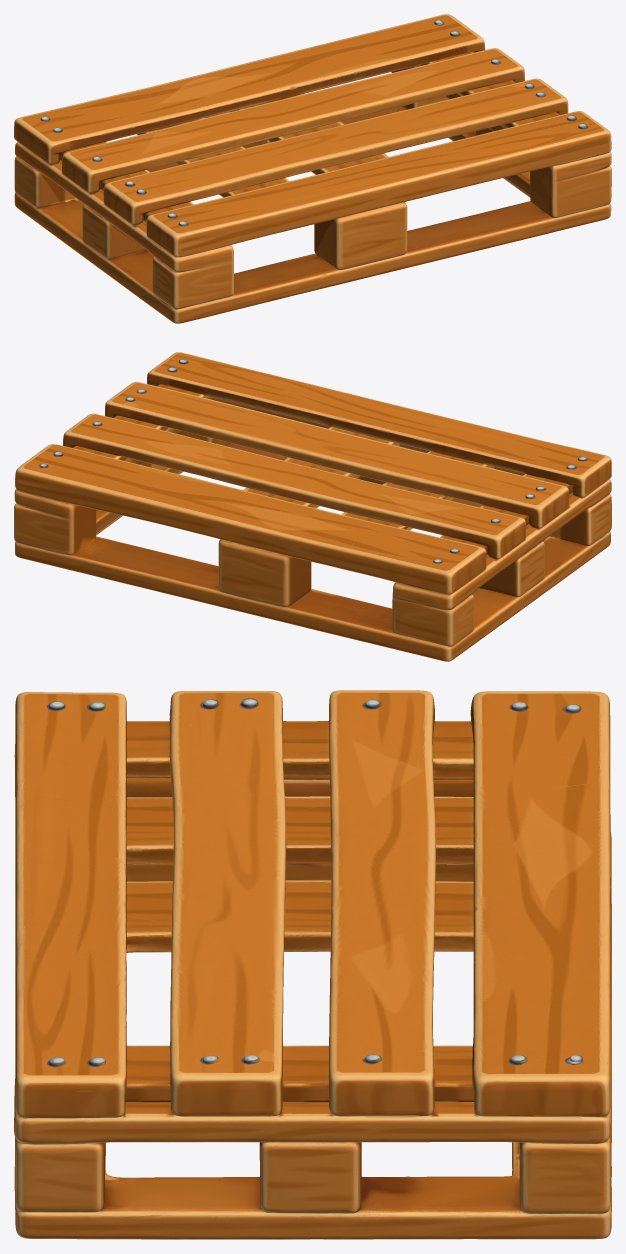
Rendered from pallet.glb.
3 views of the same model, one above another, from view 1: azimuth 30°, elevation 25°; view 2: azimuth 150°, elevation 25°; view 3: azimuth 270°, elevation 25° (orthographic). The views are drawn at different scales.
Bounding box in the file's own units: 1.9 × 0.3819 × 1.23.
1 material, 1 textured.
